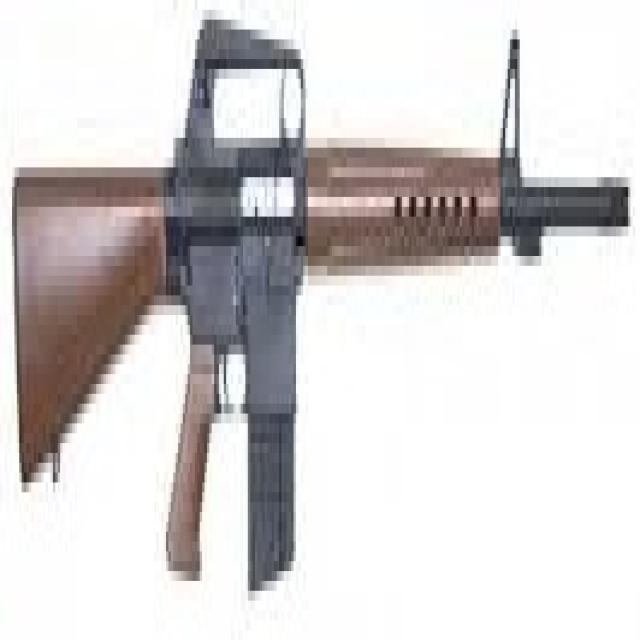rifle: (10, 1, 640, 633)
